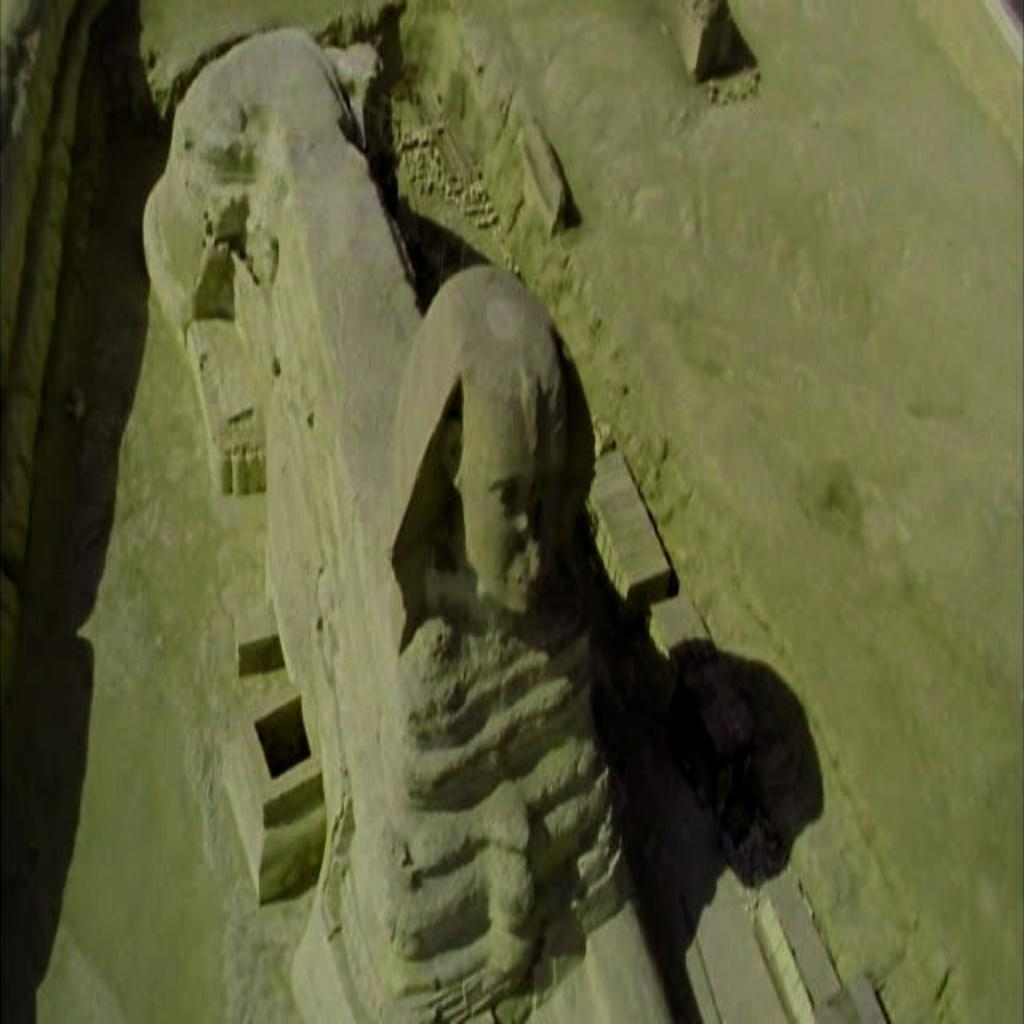Sphinx: (136, 23, 677, 1021)
